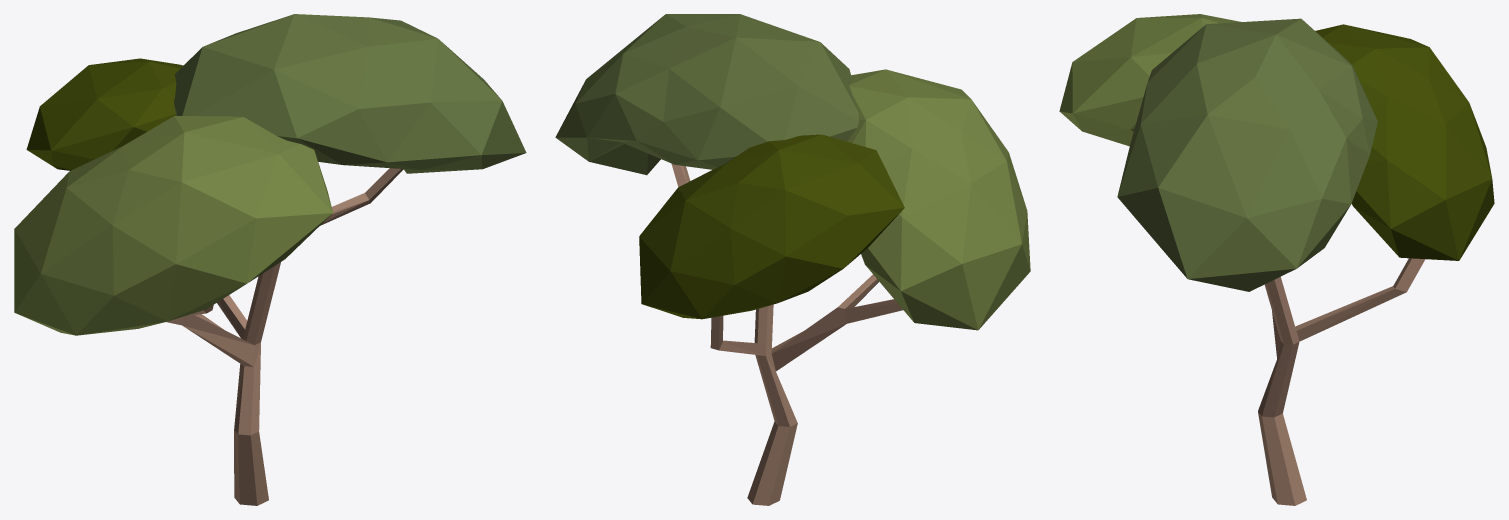
File: tree_03_03.dae
The picture shows the model from 3 angles, left to right: view 1: azimuth 30°, elevation 25°; view 2: azimuth 150°, elevation 25°; view 3: azimuth 270°, elevation 25°; orthographic projection. The views are drawn at different scales.
Visible parts, largest first — view 1: tree_0303; view 2: tree_0303; view 3: tree_0303.
Boxes of the visible parts, x1,y1,x2,y2 form: tree_0303: (14, 14, 526, 505); tree_0303: (555, 14, 1030, 505); tree_0303: (1059, 14, 1494, 505).
Bounding box in the file's own units: 4.44 × 3.57 × 4.37.
